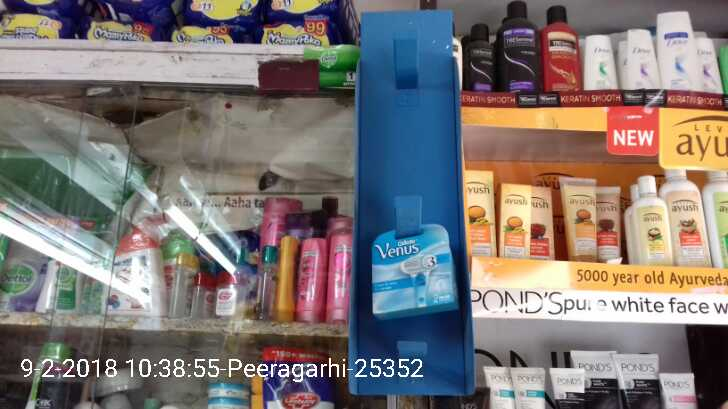venus: (374, 226, 456, 313)
